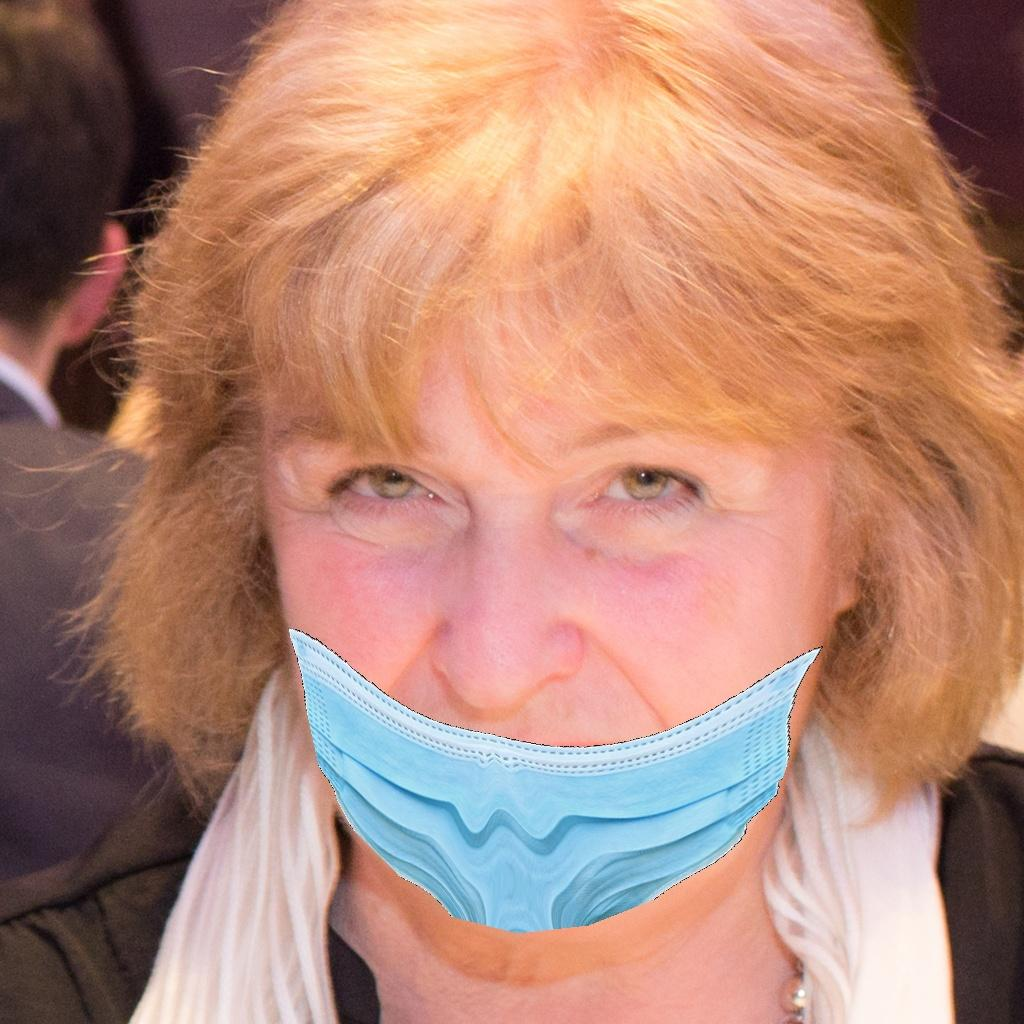Máscara Incorreta: (255, 320, 835, 914)
